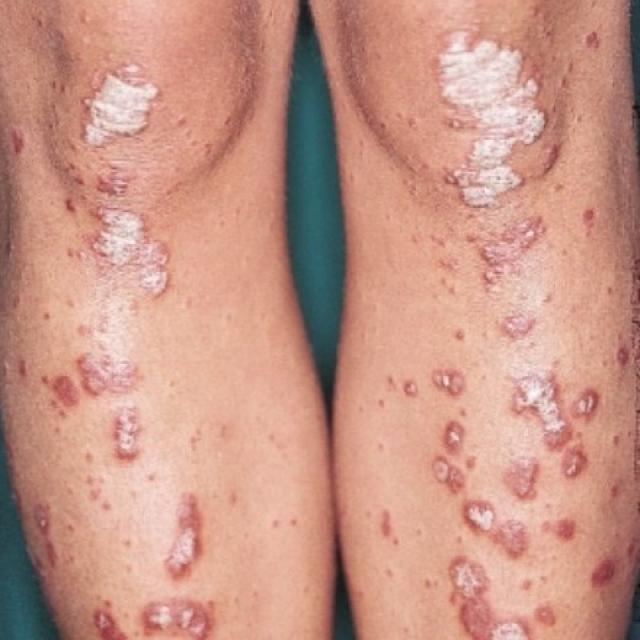Psoriasis Guttata: (313, 0, 639, 639)
